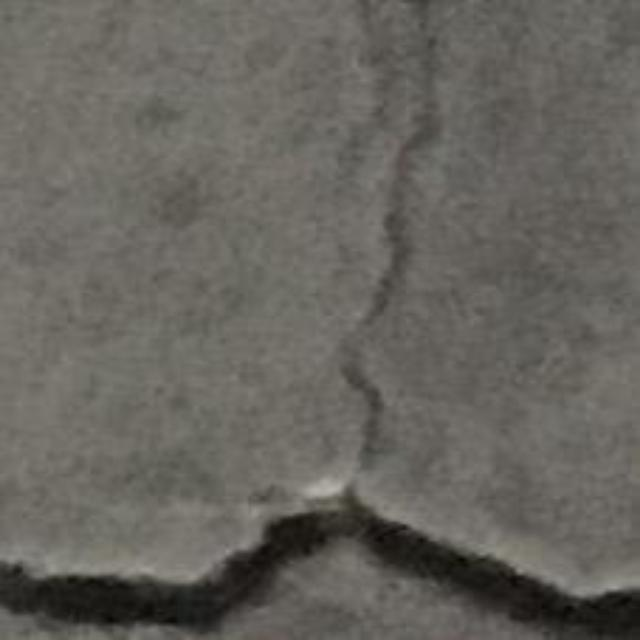crack: (0, 494, 639, 637), (342, 0, 437, 470), (0, 514, 338, 631), (359, 505, 639, 637)
